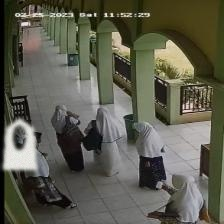Mukena: (3, 117, 36, 170)
